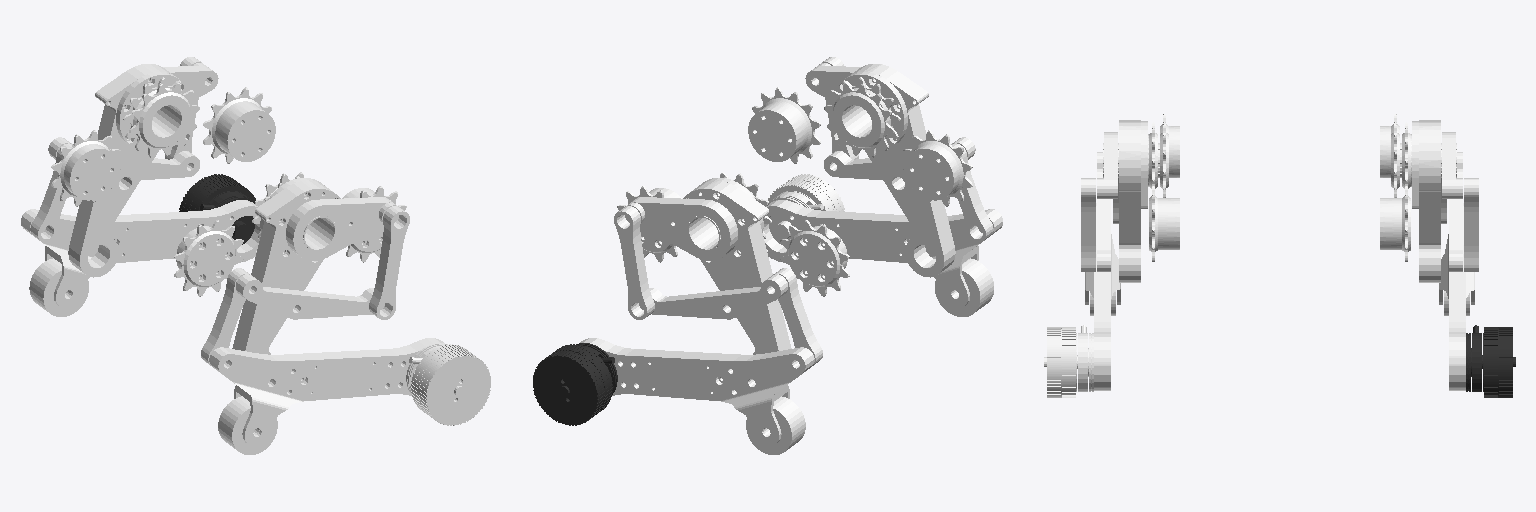
robot.urdf — wheelleg_mini:
<?xml version="1.0" encoding="utf-8"?>
<robot name="wheelleg_mini">
  <link name="body">
    <inertial>
      <origin xyz="0.000126206588654872 2.98950535160269E-09 0.0366352603875917" rpy="0 0 0" />
      <mass value="1.79352148343781" />
      <inertia ixx="0.00118202765538466" ixy="-4.97873781208706E-09" ixz="8.17549610595725E-08" iyy="0.00154279242921694" iyz="2.86939228046628E-09" izz="0.00169319520072238" />
    </inertial>
    <visual>
      <origin xyz="0 0 0" rpy="0 0 0" />
      <geometry>
        <mesh filename="meshes/body.STL" />
      </geometry>
      <material name="">
        <color rgba="0.847058823529412 0.847058823529412 0.847058823529412 1" />
      </material>
    </visual>
    <collision>
      <origin xyz="0 0 0" rpy="0 0 0" />
      <geometry>
        <mesh filename="meshes/body.STL" />
      </geometry>
    </collision>
  </link>
  <link name="sprocket1">
    <inertial>
      <origin xyz="0.013511 0.025074 0.00066888" rpy="0 0 0" />
      <mass value="0.026364" />
      <inertia ixx="4.3462E-06" ixy="-1.8705E-07" ixz="-3.2063E-07" iyy="1.1937E-05" iyz="-9.26E-09" izz="1.0807E-05" />
    </inertial>
    <visual>
      <origin xyz="0 0 0" rpy="0 0 0" />
      <geometry>
        <mesh filename="meshes/sprocket1.STL" />
      </geometry>
      <material name="">
        <color rgba="1 1 1 1" />
      </material>
    </visual>
    <collision>
      <origin xyz="0 0 0" rpy="0 0 0" />
      <geometry>
        <mesh filename="meshes/sprocket1.STL" />
      </geometry>
    </collision>
  </link>
  <joint name="body_to_sprocket1" type="continuous">
    <origin xyz="0.00016122 0.0843 0.067894" rpy="0 0 0" />
    <parent link="body" />
    <child link="sprocket1" />
    <axis xyz="0 -1 0" />
  </joint>
  <link name="link1_l">
    <inertial>
      <origin xyz="-0.005454 5.5511E-16 -0.03077" rpy="0 0 0" />
      <mass value="0.0072161" />
      <inertia ixx="3.087E-06" ixy="1.0031E-20" ixz="-5.2045E-07" iyy="3.2096E-06" iyz="5.3923E-20" izz="2.4289E-07" />
    </inertial>
    <visual>
      <origin xyz="0 0 0" rpy="0 0 0" />
      <geometry>
        <mesh filename="meshes/link1_l.STL" />
      </geometry>
      <material name="">
        <color rgba="1 1 1 1" />
      </material>
    </visual>
    <collision>
      <origin xyz="0 0 0" rpy="0 0 0" />
      <geometry>
        <mesh filename="meshes/link1_l.STL" />
      </geometry>
    </collision>
  </link>
  <joint name="sprocket1_to_link1_l" type="continuous">
    <origin xyz="0.052436 0.05045 0.0025959" rpy="0 0 0" />
    <parent link="sprocket1" />
    <child link="link1_l" />
    <axis xyz="0 1 0" />
  </joint>
  <link name="link2_l">
    <inertial>
      <origin xyz="-0.0504798876950968 -0.0111000000000208 0.0113235827374882" rpy="0 0 0" />
      <mass value="0.0147141647920255" />
      <inertia ixx="1.84163589707192E-06" ixy="7.87237689494553E-20" ixz="4.1815864003488E-06" iyy="1.49229283738463E-05" iyz="-2.32591035347439E-20" izz="1.33265285566415E-05" />
    </inertial>
    <visual>
      <origin xyz="0 0 0" rpy="0 0 0" />
      <geometry>
        <mesh filename="meshes/link2_l.STL" />
      </geometry>
      <material name="">
        <color rgba="1 1 1 1" />
      </material>
    </visual>
    <collision>
      <origin xyz="0 0 0" rpy="0 0 0" />
      <geometry>
        <mesh filename="meshes/link2_l.STL" />
      </geometry>
    </collision>
  </link>
  <joint name="link1_l_to_link2_l" type="continuous">
    <origin xyz="-0.010908 0 -0.061541" rpy="0 0 0" />
    <parent link="link1_l" />
    <child link="link2_l" />
    <axis xyz="0 1 0" />
  </joint>
  <link name="sprocket2">
    <inertial>
      <origin xyz="-0.01584 0.017566 -0.028941" rpy="0 0 0" />
      <mass value="0.071466" />
      <inertia ixx="7.9577E-05" ixy="5.0329E-08" ixz="-2.6897E-05" iyy="0.00010216" iyz="5.9825E-08" izz="2.5785E-05" />
    </inertial>
    <visual>
      <origin xyz="0 0 0" rpy="0 0 0" />
      <geometry>
        <mesh filename="meshes/sprocket2.STL" />
      </geometry>
      <material name="">
        <color rgba="1 1 1 1" />
      </material>
    </visual>
    <collision>
      <origin xyz="0 0 0" rpy="0 0 0" />
      <geometry>
        <mesh filename="meshes/sprocket2.STL" />
      </geometry>
    </collision>
  </link>
  <joint name="body_to_sprocket2" type="continuous">
    <origin xyz="0.00016122 0.08595 0.067894" rpy="0 0 0" />
    <parent link="body" />
    <child link="sprocket2" />
    <axis xyz="0 1 0" />
  </joint>
  <link name="link3_l">
    <inertial>
      <origin xyz="0.011142 -1.0408E-16 0.00088123" rpy="0 0 0" />
      <mass value="0.014714" />
      <inertia ixx="1.8416E-06" ixy="7.8724E-20" ixz="4.1816E-06" iyy="1.4923E-05" iyz="-2.3261E-20" izz="1.3327E-05" />
    </inertial>
    <visual>
      <origin xyz="0 0 0" rpy="0 0 0" />
      <geometry>
        <mesh filename="meshes/link3_l.STL" />
      </geometry>
      <material name="">
        <color rgba="1 1 1 1" />
      </material>
    </visual>
    <collision>
      <origin xyz="0 0 0" rpy="0 0 0" />
      <geometry>
        <mesh filename="meshes/link3_l.STL" />
      </geometry>
    </collision>
  </link>
  <joint name="sprocket2_to_link3_l" type="continuous">
    <origin xyz="-0.020094 0.0377 -0.048503" rpy="0 0 0" />
    <parent link="sprocket2" />
    <child link="link3_l" />
    <axis xyz="0 1 0" />
  </joint>
  <link name="link4_l">
    <inertial>
      <origin xyz="-0.010047 -0.0111 -0.024251" rpy="0 0 0" />
      <mass value="0.0061961" />
      <inertia ixx="1.7722E-06" ixy="1.5661E-21" ixz="-6.7883E-07" iyy="2.0838E-06" iyz="2.7811E-21" izz="4.1487E-07" />
    </inertial>
    <visual>
      <origin xyz="0 0 0" rpy="0 0 0" />
      <geometry>
        <mesh filename="meshes/link4_l.STL" />
      </geometry>
      <material name="">
        <color rgba="1 1 1 1" />
      </material>
    </visual>
    <collision>
      <origin xyz="0 0 0" rpy="0 0 0" />
      <geometry>
        <mesh filename="meshes/link4_l.STL" />
      </geometry>
    </collision>
  </link>
  <joint name="link3_l_to_link4_l" type="continuous">
    <origin xyz="-0.033691 0 0.021561" rpy="0 0 0" />
    <parent link="link3_l" />
    <child link="link4_l" />
    <axis xyz="0 1 0" />
  </joint>
  <link name="link5_l">
    <inertial>
      <origin xyz="0.076426 6.8612E-05 -0.02929" rpy="0 0 0" />
      <mass value="0.061896" />
      <inertia ixx="1.3152E-05" ixy="2.0169E-07" ixz="2.4144E-05" iyy="0.00016129" iyz="1.3757E-08" izz="0.0001505" />
    </inertial>
    <visual>
      <origin xyz="0 0 0" rpy="0 0 0" />
      <geometry>
        <mesh filename="meshes/link5_l.STL" />
      </geometry>
      <material name="">
        <color rgba="1 1 1 1" />
      </material>
    </visual>
    <collision>
      <origin xyz="0 0 0" rpy="0 0 0" />
      <geometry>
        <mesh filename="meshes/link5_l.STL" />
      </geometry>
    </collision>
  </link>
  <joint name="link4_l_to_link5_l" type="continuous">
    <origin xyz="-0.020094 0.001 -0.048503" rpy="0 0 0" />
    <parent link="link4_l" />
    <child link="link5_l" />
    <axis xyz="0 1 0" />
  </joint>
  <link name="link6_l">
    <inertial>
      <origin xyz="0.0427344313541752 6.86121883748253E-05 -0.00772813827375069" rpy="0 0 0" />
      <mass value="0.0618958392198437" />
      <inertia ixx="1.31521827784697E-05" ixy="2.01690826637606E-07" ixz="2.41439915038629E-05" iyy="0.00016128980597272" iyz="1.3756570609559E-08" izz="0.000150498339008336" />
    </inertial>
    <visual>
      <origin xyz="0 0 0" rpy="0 0 0" />
      <geometry>
        <mesh filename="meshes/link6_l.STL" />
      </geometry>
      <material name="">
        <color rgba="1 1 1 1" />
      </material>
    </visual>
    <collision>
      <origin xyz="0 0 0" rpy="0 0 0" />
      <geometry>
        <mesh filename="meshes/link6_l.STL" />
      </geometry>
    </collision>
  </link>
  <joint name="sprocket2_to_g6_l" type="continuous">
    <origin xyz="-0.040187 0.0387 -0.097005" rpy="0 0 0" />
    <parent link="sprocket2" />
    <child link="link6_l" />
    <axis xyz="0 1 0" />
  </joint>
  <link name="wheel1">
    <inertial>
      <origin xyz="0.000220382906314931 -0.0154927042168653 -3.87039049892651E-05" rpy="0 0 0" />
      <mass value="0.0546781441681801" />
      <inertia ixx="1.14462112731967E-05" ixy="8.7463171302561E-08" ixz="-1.41097807643421E-08" iyy="1.48164649102695E-05" iyz="-1.54229393241884E-08" izz="1.12958176468111E-05" />
    </inertial>
    <visual>
      <origin xyz="0 0 0" rpy="0 0 0" />
      <geometry>
        <mesh filename="meshes/wheel1.STL" />
      </geometry>
      <material name="">
        <color rgba="0.250980392156863 0.250980392156863 0.250980392156863 1" />
      </material>
    </visual>
    <collision>
      <origin xyz="0 0 0" rpy="0 0 0" />
      <geometry>
        <mesh filename="meshes/wheel1.STL" />
      </geometry>
    </collision>
  </link>
  <joint name="g6_l_to_wheel1" type="continuous">
    <origin xyz="0.12324 0.039 -0.020885" rpy="0 0 0" />
    <parent link="link6_l" />
    <child link="wheel1" />
    <axis xyz="0 1 0" />
  </joint>
  <link name="wheel_link1">
    <inertial>
      <origin xyz="-8.67361737988404E-17 -0.00925 6.93889390390723E-18" rpy="0 0 0" />
      <mass value="0.0170871224428749" />
      <inertia ixx="1.84790109585341E-06" ixy="8.63845773849403E-21" ixz="1.62800776777801E-22" iyy="2.72112424902783E-06" iyz="1.94967667364277E-22" izz="1.84790109585341E-06" />
    </inertial>
    <visual>
      <origin xyz="0 0 0" rpy="0 0 0" />
      <geometry>
        <mesh filename="meshes/wheel_link1.STL" />
      </geometry>
      <material name="">
        <color rgba="1 1 1 1" />
      </material>
    </visual>
    <collision>
      <origin xyz="0 0 0" rpy="0 0 0" />
      <geometry>
        <mesh filename="meshes/wheel_link1.STL" />
      </geometry>
    </collision>
  </link>
  <joint name="g6_l_to_modelwheel1" type="continuous">
    <origin xyz="-0.014959 0.00925 -0.029975" rpy="0 0 0" />
    <parent link="link6_l" />
    <child link="wheel_link1" />
    <axis xyz="0 -1 0" />
  </joint>
  <link name="sprocket3">
    <inertial>
      <origin xyz="0.0135110308925077 -0.0310743950059285 0.00066887681061889" rpy="0 0 0" />
      <mass value="0.0263641527788881" />
      <inertia ixx="4.34619892052473E-06" ixy="1.87047958781646E-07" ixz="-3.20631844469104E-07" iyy="1.19374845939326E-05" iyz="9.25999230545754E-09" izz="1.08069544381001E-05" />
    </inertial>
    <visual>
      <origin xyz="0 0 0" rpy="0 0 0" />
      <geometry>
        <mesh filename="meshes/sprocket3.STL" />
      </geometry>
      <material name="">
        <color rgba="1 1 1 1" />
      </material>
    </visual>
    <collision>
      <origin xyz="0 0 0" rpy="0 0 0" />
      <geometry>
        <mesh filename="meshes/sprocket3.STL" />
      </geometry>
    </collision>
  </link>
  <joint name="body_to_sprocket3" type="continuous">
    <origin xyz="0.00016122 -0.0783 0.067894" rpy="0 0 0" />
    <parent link="body" />
    <child link="sprocket3" />
    <axis xyz="0 1 0" />
  </joint>
  <link name="link1_r">
    <inertial>
      <origin xyz="-0.00545396358943633 5.55111512312578E-17 -0.0307703880567845" rpy="0 0 0" />
      <mass value="0.00721611301279492" />
      <inertia ixx="3.08696058028922E-06" ixy="1.109339027893E-21" ixz="-5.20453717117461E-07" iyy="3.20958512854598E-06" iyz="4.73690056856948E-21" izz="2.4289309847001E-07" />
    </inertial>
    <visual>
      <origin xyz="0 0 0" rpy="0 0 0" />
      <geometry>
        <mesh filename="meshes/link1_r.STL" />
      </geometry>
      <material name="">
        <color rgba="1 1 1 1" />
      </material>
    </visual>
    <collision>
      <origin xyz="0 0 0" rpy="0 0 0" />
      <geometry>
        <mesh filename="meshes/link1_r.STL" />
      </geometry>
    </collision>
  </link>
  <joint name="sprocket3_to_link1_r" type="continuous">
    <origin xyz="0.052436 -0.05645 0.0025959" rpy="0 0 0" />
    <parent link="sprocket3" />
    <child link="link1_r" />
    <axis xyz="0 -1 0" />
  </joint>
  <link name="link2_r">
    <inertial>
      <origin xyz="-0.0504798876950993 0.0110999999999542 0.0113235827375182" rpy="0 0 0" />
      <mass value="0.0147141647920255" />
      <inertia ixx="1.84163589707206E-06" ixy="9.7077326032601E-20" ixz="4.18158640034898E-06" iyy="1.49229283738463E-05" iyz="-3.0778177114492E-20" izz="1.33265285566413E-05" />
    </inertial>
    <visual>
      <origin xyz="0 0 0" rpy="0 0 0" />
      <geometry>
        <mesh filename="meshes/link2_r.STL" />
      </geometry>
      <material name="">
        <color rgba="1 1 1 1" />
      </material>
    </visual>
    <collision>
      <origin xyz="0 0 0" rpy="0 0 0" />
      <geometry>
        <mesh filename="meshes/link2_r.STL" />
      </geometry>
    </collision>
  </link>
  <joint name="link1_r_to_link2_r" type="continuous">
    <origin xyz="-0.010908 0 -0.061541" rpy="0 0 0" />
    <parent link="link1_r" />
    <child link="link2_r" />
    <axis xyz="0 -1 0" />
  </joint>
  <link name="sprocket4">
    <inertial>
      <origin xyz="-0.0158396495443035 -0.0175657732983055 -0.0289413856913027" rpy="0 0 0" />
      <mass value="0.0714660601335625" />
      <inertia ixx="7.95768204425331E-05" ixy="-5.03290367478439E-08" ixz="-2.68969035577708E-05" iyy="0.000102155417493633" iyz="-5.98245575252837E-08" izz="2.57849696913716E-05" />
    </inertial>
    <visual>
      <origin xyz="0 0 0" rpy="0 0 0" />
      <geometry>
        <mesh filename="meshes/sprocket4.STL" />
      </geometry>
      <material name="">
        <color rgba="1 1 1 1" />
      </material>
    </visual>
    <collision>
      <origin xyz="0 0 0" rpy="0 0 0" />
      <geometry>
        <mesh filename="meshes/sprocket4.STL" />
      </geometry>
    </collision>
  </link>
  <joint name="body_to_sprocket4" type="continuous">
    <origin xyz="0.00016122 -0.08595 0.067894" rpy="0 0 0" />
    <parent link="body" />
    <child link="sprocket4" />
    <axis xyz="0 -1 0" />
  </joint>
  <link name="link3_r">
    <inertial>
      <origin xyz="0.0111415959392049 -1.11022302462516E-16 0.000881228850423854" rpy="0 0 0" />
      <mass value="0.0147141647920255" />
      <inertia ixx="1.84163589707206E-06" ixy="9.70778170745369E-20" ixz="4.18158640034898E-06" iyy="1.49229283738463E-05" iyz="-3.07772150987247E-20" izz="1.33265285566413E-05" />
    </inertial>
    <visual>
      <origin xyz="0 0 0" rpy="0 0 0" />
      <geometry>
        <mesh filename="meshes/link3_r.STL" />
      </geometry>
      <material name="">
        <color rgba="1 1 1 1" />
      </material>
    </visual>
    <collision>
      <origin xyz="0 0 0" rpy="0 0 0" />
      <geometry>
        <mesh filename="meshes/link3_r.STL" />
      </geometry>
    </collision>
  </link>
  <joint name="sprocket4_to_link3_r" type="continuous">
    <origin xyz="-0.020094 -0.0377 -0.048503" rpy="0 0 0" />
    <parent link="sprocket4" />
    <child link="link3_r" />
    <axis xyz="0 -1 0" />
  </joint>
  <link name="link4_r">
    <inertial>
      <origin xyz="-0.0100468136999744 0.0111000000000171 -0.0242512687189602" rpy="0 0 0" />
      <mass value="0.00619611301279491" />
      <inertia ixx="1.77221273675548E-06" ixy="2.7448601901264E-21" ixz="-6.78826061116414E-07" iyy="2.08381235419085E-06" iyz="5.99219202482314E-21" izz="4.14868167648624E-07" />
    </inertial>
    <visual>
      <origin xyz="0 0 0" rpy="0 0 0" />
      <geometry>
        <mesh filename="meshes/link4_r.STL" />
      </geometry>
      <material name="">
        <color rgba="1 1 1 1" />
      </material>
    </visual>
    <collision>
      <origin xyz="0 0 0" rpy="0 0 0" />
      <geometry>
        <mesh filename="meshes/link4_r.STL" />
      </geometry>
    </collision>
  </link>
  <joint name="link3_r_to_link4_r" type="continuous">
    <origin xyz="-0.033691 0 0.021561" rpy="0 0 0" />
    <parent link="link3_r" />
    <child link="link4_r" />
    <axis xyz="0 -1 0" />
  </joint>
  <link name="link5_r">
    <inertial>
      <origin xyz="0.0764257748183381 -6.86118240656175E-05 -0.0292895265735411" rpy="0 0 0" />
      <mass value="0.0618958365634562" />
      <inertia ixx="1.31521825994885E-05" ixy="-2.01690049044583E-07" ixz="2.41439915259125E-05" iyy="0.000161289802821557" iyz="-1.37565508379023E-08" izz="0.000150498335754797" />
    </inertial>
    <visual>
      <origin xyz="0 0 0" rpy="0 0 0" />
      <geometry>
        <mesh filename="meshes/link5_r.STL" />
      </geometry>
      <material name="">
        <color rgba="1 1 1 1" />
      </material>
    </visual>
    <collision>
      <origin xyz="0 0 0" rpy="0 0 0" />
      <geometry>
        <mesh filename="meshes/link5_r.STL" />
      </geometry>
    </collision>
  </link>
  <joint name="link4_r_to_link5_r" type="continuous">
    <origin xyz="-0.020094 -0.001 -0.048503" rpy="0 0 0" />
    <parent link="link4_r" />
    <child link="link5_r" />
    <axis xyz="0 -1 0" />
  </joint>
  <link name="link6_r">
    <inertial>
      <origin xyz="0.0427344327102081 -6.86118240652844E-05 -0.00772813823807107" rpy="0 0 0" />
      <mass value="0.0618958365634563" />
      <inertia ixx="1.31521825994885E-05" ixy="-2.01690049044583E-07" ixz="2.41439915259125E-05" iyy="0.000161289802821557" iyz="-1.37565508379023E-08" izz="0.000150498335754797" />
    </inertial>
    <visual>
      <origin xyz="0 0 0" rpy="0 0 0" />
      <geometry>
        <mesh filename="meshes/link6_r.STL" />
      </geometry>
      <material name="">
        <color rgba="1 1 1 1" />
      </material>
    </visual>
    <collision>
      <origin xyz="0 0 0" rpy="0 0 0" />
      <geometry>
        <mesh filename="meshes/link6_r.STL" />
      </geometry>
    </collision>
  </link>
  <joint name="sprocket4_to_g6_r" type="continuous">
    <origin xyz="-0.040187 -0.0387 -0.097005" rpy="0 0 0" />
    <parent link="sprocket4" />
    <child link="link6_r" />
    <axis xyz="0 -1 0" />
  </joint>
  <link name="wheel2">
    <inertial>
      <origin xyz="0.000220382906318956 0.0154927042170693 -3.87039048081322E-05" rpy="0 0 0" />
      <mass value="0.05467814416818" />
      <inertia ixx="1.14462112731967E-05" ixy="-8.74631713024195E-08" ixz="-1.41097807643315E-08" iyy="1.48164649102695E-05" iyz="1.54229393242E-08" izz="1.12958176468111E-05" />
    </inertial>
    <visual>
      <origin xyz="0 0 0" rpy="0 0 0" />
      <geometry>
        <mesh filename="meshes/wheel2.STL" />
      </geometry>
      <material name="">
        <color rgba="1 1 1 1" />
      </material>
    </visual>
    <collision>
      <origin xyz="0 0 0" rpy="0 0 0" />
      <geometry>
        <mesh filename="meshes/wheel2.STL" />
      </geometry>
    </collision>
  </link>
  <joint name="g6_r_to_wheel2" type="continuous">
    <origin xyz="0.12324 -0.039 -0.020885" rpy="0 0 0" />
    <parent link="link6_r" />
    <child link="wheel2" />
    <axis xyz="0 -1 0" />
  </joint>
  <link name="wheel_link2">
    <inertial>
      <origin xyz="-1.37121217158587E-14 0 5.66907631949221E-15" rpy="0 0 0" />
      <mass value="0.0170871224428749" />
      <inertia ixx="1.84790109585341E-06" ixy="8.3870962711523E-21" ixz="-1.54686221133302E-22" iyy="2.72112424902783E-06" iyz="1.04159833815484E-22" izz="1.84790109585341E-06" />
    </inertial>
    <visual>
      <origin xyz="0 0 0" rpy="0 0 0" />
      <geometry>
        <mesh filename="meshes/wheel_link2.STL" />
      </geometry>
      <material name="">
        <color rgba="1 1 1 1" />
      </material>
    </visual>
    <collision>
      <origin xyz="0 0 0" rpy="0 0 0" />
      <geometry>
        <mesh filename="meshes/wheel_link2.STL" />
      </geometry>
    </collision>
  </link>
  <joint name="g6_r_to_modelwheel2" type="continuous">
    <origin xyz="-0.0149588300755711 9.62947137343462E-05 -0.0299747127220202" rpy="0 0 0" />
    <parent link="link6_r" />
    <child link="wheel_link2" />
    <axis xyz="0 0 0" />
  </joint>
  <link name="sprocket_link1">
    <inertial>
      <origin xyz="-2.77222689248902E-13 0.00338042204057104 -9.29117893733178E-15" rpy="0 0 0" />
      <mass value="0.0242172640986945" />
      <inertia ixx="3.27385113763148E-06" ixy="1.19424691926913E-20" ixz="-2.47020041597913E-21" iyy="4.56952603920605E-06" iyz="9.34687804111875E-22" izz="3.27385113763148E-06" />
    </inertial>
    <visual>
      <origin xyz="0 0 0" rpy="0 0 0" />
      <geometry>
        <mesh filename="meshes/sprocket_link1.STL" />
      </geometry>
      <material name="">
        <color rgba="1 1 1 1" />
      </material>
    </visual>
    <collision>
      <origin xyz="0 0 0" rpy="0 0 0" />
      <geometry>
        <mesh filename="meshes/sprocket_link1.STL" />
      </geometry>
    </collision>
  </link>
  <joint name="body_to_sprocket_link1" type="continuous">
    <origin xyz="0.060161 0.077975 0.0465" rpy="0 0 0" />
    <parent link="body" />
    <child link="sprocket_link1" />
    <axis xyz="0 -1 0" />
  </joint>
  <link name="sprocket_link2">
    <inertial>
      <origin xyz="-6.09171253279067E-13 0.00327135302542496 1.77954873059605E-13" rpy="0 0 0" />
      <mass value="0.0158497909886239" />
      <inertia ixx="1.83174161293612E-06" ixy="1.23738829827595E-20" ixz="-1.94516690920671E-21" iyy="3.13326573837489E-06" iyz="4.84524755472965E-22" izz="1.83174161293612E-06" />
    </inertial>
    <visual>
      <origin xyz="0 0 0" rpy="0 0 0" />
      <geometry>
        <mesh filename="meshes/sprocket_link2.STL" />
      </geometry>
      <material name="">
        <color rgba="1 1 1 1" />
      </material>
    </visual>
    <collision>
      <origin xyz="0 0 0" rpy="0 0 0" />
      <geometry>
        <mesh filename="meshes/sprocket_link2.STL" />
      </geometry>
    </collision>
  </link>
  <joint name="body_to_sprocket_link2" type="continuous">
    <origin xyz="-0.059839 0.07415 0.0465" rpy="0 0 0" />
    <parent link="body" />
    <child link="sprocket_link2" />
    <axis xyz="0 -1 0" />
  </joint>
  <link name="sprocket_link3">
    <inertial>
      <origin xyz="4.11615186379777E-14 -0.00338042204031086 -1.48006606970341E-14" rpy="0 0 0" />
      <mass value="0.0242172640986945" />
      <inertia ixx="3.27385113763148E-06" ixy="1.21770972827756E-20" ixz="-1.72040642713959E-21" iyy="4.56952603920604E-06" iyz="-7.01258011580204E-22" izz="3.27385113763148E-06" />
    </inertial>
    <visual>
      <origin xyz="0 0 0" rpy="0 0 0" />
      <geometry>
        <mesh filename="meshes/sprocket_link3.STL" />
      </geometry>
      <material name="">
        <color rgba="1 1 1 1" />
      </material>
    </visual>
    <collision>
      <origin xyz="0 0 0" rpy="0 0 0" />
      <geometry>
        <mesh filename="meshes/sprocket_link3.STL" />
      </geometry>
    </collision>
  </link>
  <joint name="body_to_sprocket_link3" type="continuous">
    <origin xyz="0.060161 -0.077975 0.0465" rpy="0 0 0" />
    <parent link="body" />
    <child link="sprocket_link3" />
    <axis xyz="0 1 0" />
  </joint>
  <link name="sprocket_link4">
    <inertial>
      <origin xyz="4.46292468125098E-14 -0.00327135302501688 -2.15105711021124E-14" rpy="0 0 0" />
      <mass value="0.0158497909886239" />
      <inertia ixx="1.83174161293612E-06" ixy="1.06645036793828E-20" ixz="-1.19230330481276E-21" iyy="3.13326573837489E-06" iyz="-9.3909171017122E-22" izz="1.83174161293612E-06" />
    </inertial>
    <visual>
      <origin xyz="0 0 0" rpy="0 0 0" />
      <geometry>
        <mesh filename="meshes/sprocket_link4.STL" />
      </geometry>
      <material name="">
        <color rgba="1 1 1 1" />
      </material>
    </visual>
    <collision>
      <origin xyz="0 0 0" rpy="0 0 0" />
      <geometry>
        <mesh filename="meshes/sprocket_link4.STL" />
      </geometry>
    </collision>
  </link>
  <joint name="body_to_sprocket_link4" type="continuous">
    <origin xyz="-0.059839 -0.07415 0.0465" rpy="0 0 0" />
    <parent link="body" />
    <child link="sprocket_link4" />
    <axis xyz="0 1 0" />
  </joint>
</robot>

--- Render facts (derived) ---
The picture shows the robot from 3 angles, left to right: view 1: azimuth 30°, elevation 25°; view 2: azimuth 150°, elevation 25°; view 3: azimuth 270°, elevation 25°; orthographic projection.
Model wheelleg_mini with 25 links and 24 joints (24 continuous), rooted at body, posed every joint at zero.
Links seen in each view (by area): view 1: sprocket2, sprocket4, link5_r, wheel2, sprocket3, link6_r, sprocket1, link5_l, sprocket_link1, sprocket_link2, sprocket_link4, link6_l (+10 smaller); view 2: sprocket4, sprocket2, link5_l, wheel1, sprocket1, link6_l, sprocket3, link5_r, sprocket_link3, sprocket_link4, sprocket_link2, link6_r (+10 smaller); view 3: sprocket2, sprocket4, wheel1, wheel2, link6_l, link6_r, sprocket1, sprocket3, sprocket_link1, sprocket_link3, link1_l, link1_r (+4 smaller).
Boxes of the visible links, x1,y1,x2,y2 form: sprocket2: (68, 64, 191, 277); sprocket4: (232, 176, 340, 354); link5_r: (209, 352, 416, 446); wheel2: (406, 343, 490, 425); sprocket3: (252, 172, 398, 260); link6_r: (211, 338, 443, 446); sprocket1: (122, 63, 218, 157); link5_l: (21, 206, 260, 307); sprocket_link1: (203, 87, 275, 163); sprocket_link2: (51, 130, 120, 206); sprocket_link4: (174, 220, 243, 296); link6_l: (22, 200, 259, 307); sprocket4: (832, 64, 955, 277); sprocket2: (683, 176, 791, 354); link5_l: (605, 351, 814, 446); wheel1: (533, 343, 617, 425); sprocket1: (625, 172, 771, 260); link6_l: (580, 338, 812, 443); sprocket3: (805, 63, 901, 157); link5_r: (763, 206, 1002, 307); sprocket_link3: (748, 87, 820, 163); sprocket_link4: (903, 130, 972, 206); sprocket_link2: (780, 220, 849, 296); link6_r: (764, 200, 1001, 307); sprocket2: (1402, 120, 1440, 282); sprocket4: (1119, 120, 1157, 282); wheel1: (1466, 325, 1515, 397); wheel2: (1044, 325, 1093, 397); link6_l: (1439, 203, 1474, 381); link6_r: (1085, 203, 1120, 381); sprocket1: (1391, 123, 1462, 198); sprocket3: (1097, 123, 1168, 198); sprocket_link1: (1380, 186, 1410, 261); sprocket_link3: (1149, 186, 1179, 261); link1_l: (1464, 178, 1478, 271); link1_r: (1081, 178, 1095, 271).
Size in the robot's own frame: 0.1943 by 0.3313 by 0.172 metres.
Meshes: 25 distinct files referenced, 24 mesh visuals loaded (24 binary STL); not drawn: 1 (reference not matched to a file when rendering).
